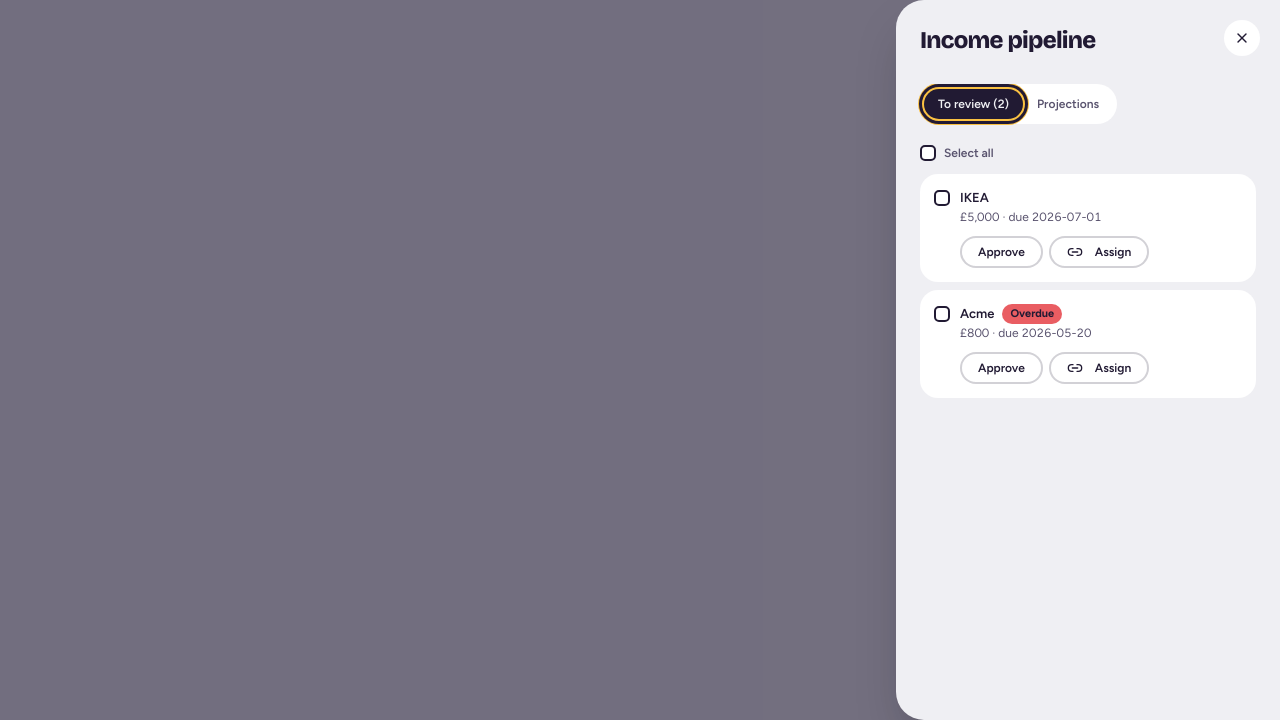
Test: projections manager › groups lapsed projections at the top and re-dates via the month editor
This screenshot has width=1280, height=720.
Later steps or results of the test are not shown.
Press the mouse on the tab "Projections" at (1068, 104), box [1023, 89, 1113, 119]
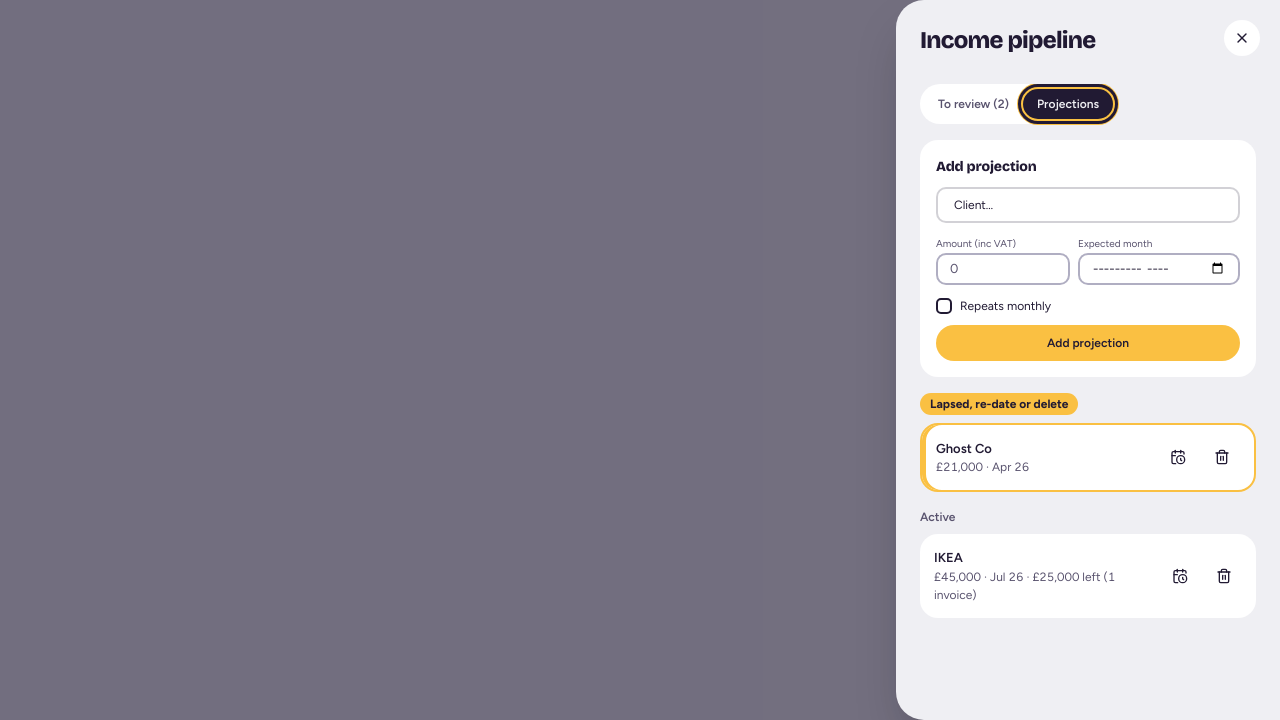
Expected: the text "Lapsed, re-date or delete" is shown, [920, 392, 1078, 414]
Expected: the text "Ghost Co" is shown, [936, 438, 992, 458]
